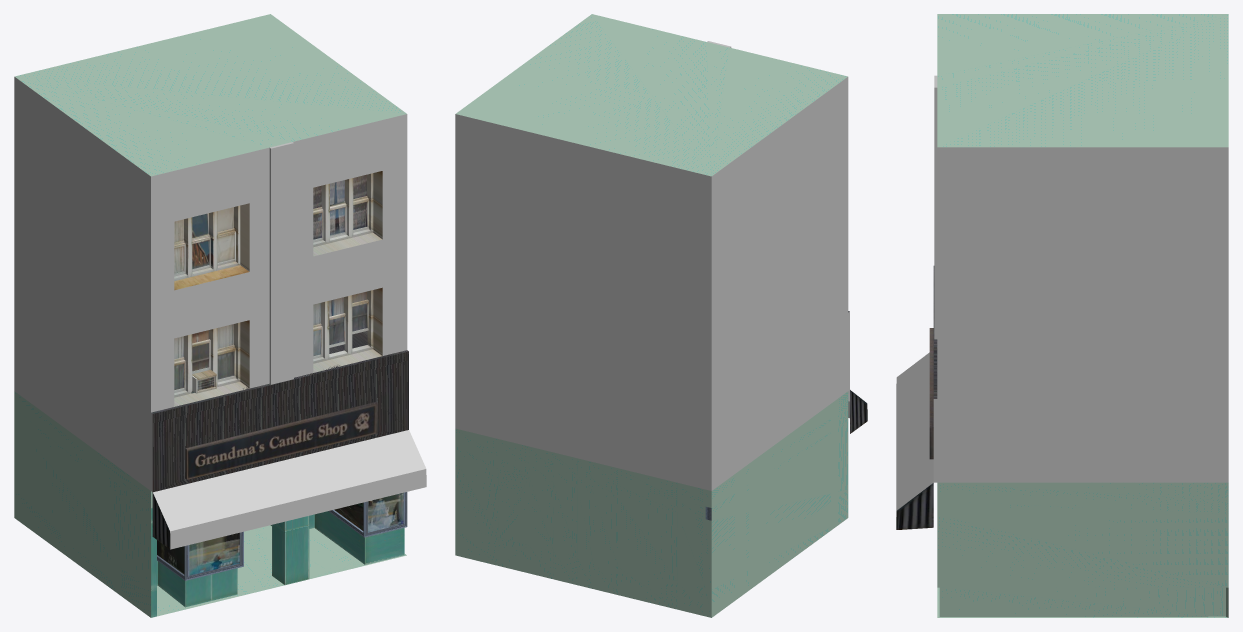
Rendered from grandmascandles.fbx.
3 renders of one model, left to right at view 1: azimuth 30°, elevation 25°; view 2: azimuth 150°, elevation 25°; view 3: azimuth 270°, elevation 25°, orthographic. The views are drawn at different scales.
Visible parts, largest first — view 1: Cube.002, Cube, Cube.001, Cube.005, Cube.006, Cube.007; view 2: Cube.002, Cube, Cube.001; view 3: Cube, Cube.002, Cube.001.
Part boxes in pixels (box(x1,y1,x2,y2)): Cube.002: box(14, 77, 407, 412); Cube: box(14, 14, 407, 617); Cube.001: box(14, 313, 426, 549); Cube.005: box(174, 171, 382, 406); Cube.006: box(151, 507, 404, 617); Cube.007: box(157, 492, 403, 575); Cube.002: box(455, 41, 848, 412); Cube: box(455, 14, 848, 617); Cube.001: box(455, 311, 867, 490); Cube: box(937, 14, 1228, 617); Cube.002: box(934, 75, 1228, 398); Cube.001: box(896, 266, 1228, 529).
Bounding box in the file's own units: 934 × 1537 × 984.
